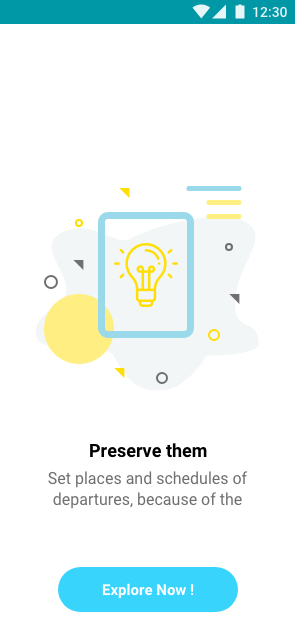Image: (37, 185, 260, 392)
Text: (48, 470, 248, 509), (90, 443, 208, 459)
TextButton: (58, 567, 239, 613)
UpperTaskBar: (1, 1, 295, 25)
